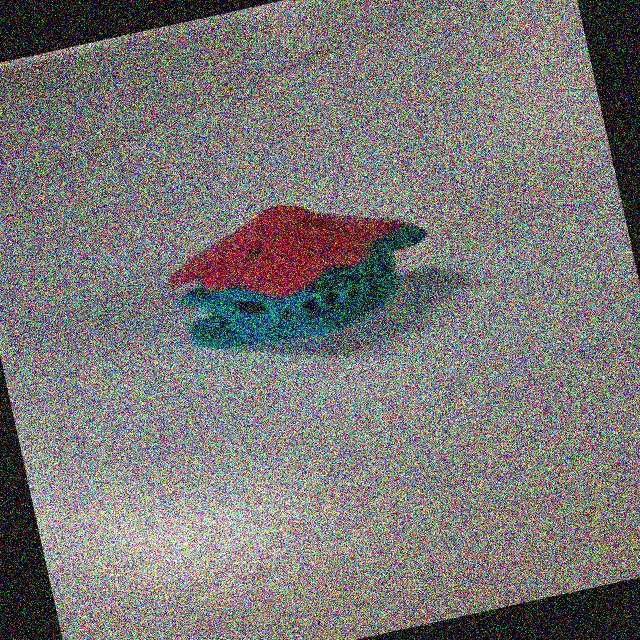House: (131, 149, 508, 395)
